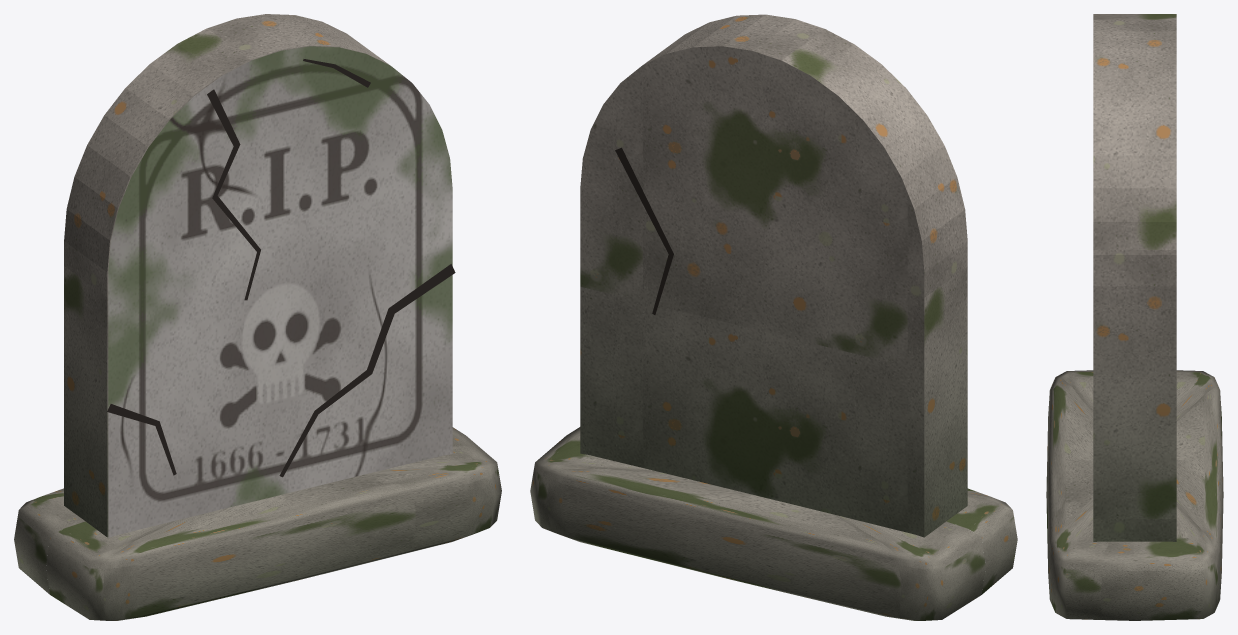
3 views of the same model, side by side, from view 1: azimuth 30°, elevation 25°; view 2: azimuth 150°, elevation 25°; view 3: azimuth 270°, elevation 25° (orthographic). The views are drawn at different scales.
Parts seen in each view (by area): view 1: Stone, Crack2, Crack; view 2: Stone, Crack2; view 3: Stone.
Boxes of the visible parts, x1,y1,x2,y2 form: Stone: (14, 14, 501, 620); Crack2: (107, 264, 455, 477); Crack: (207, 59, 370, 300); Stone: (530, 14, 1017, 620); Crack2: (615, 147, 673, 314); Stone: (1046, 14, 1223, 620).
Bounding box in the file's own units: 0.96 × 1.12 × 0.36.
Materials: 3 (2 with a texture image).
